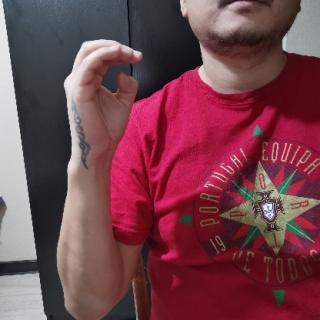JEEM: (56, 36, 149, 175)
